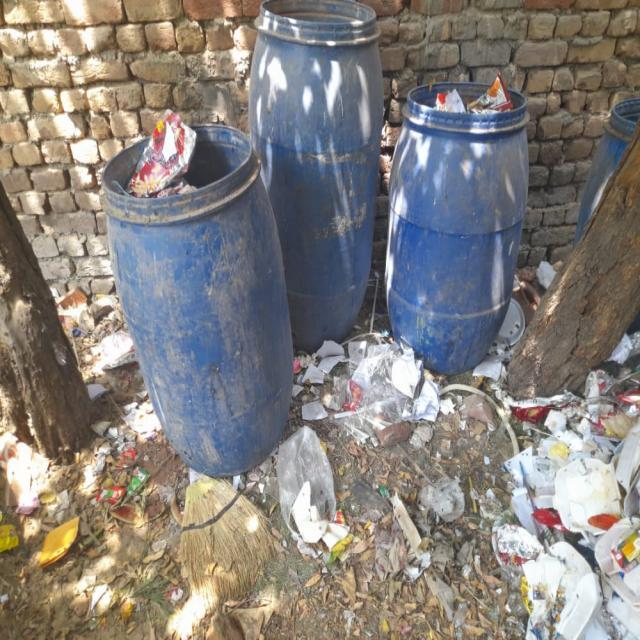garbage: (1, 416, 640, 640), (106, 82, 520, 224), (290, 316, 524, 410), (50, 280, 142, 394)
